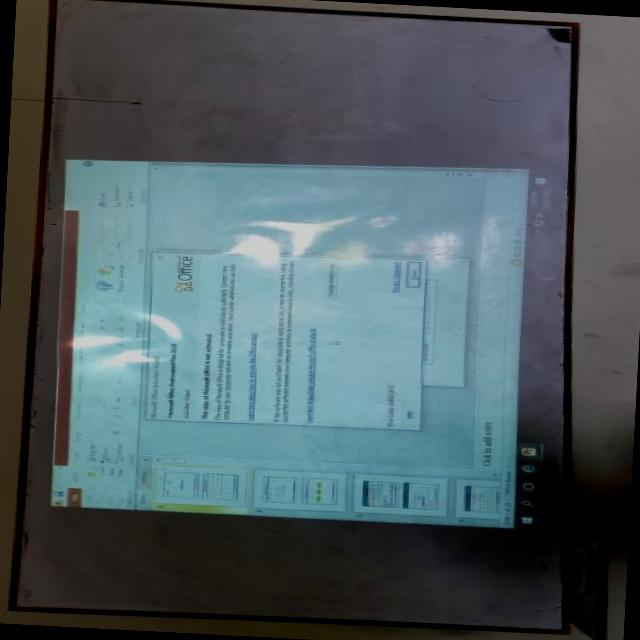Slide: (51, 159, 552, 529)
White-board: (16, 0, 578, 631)
